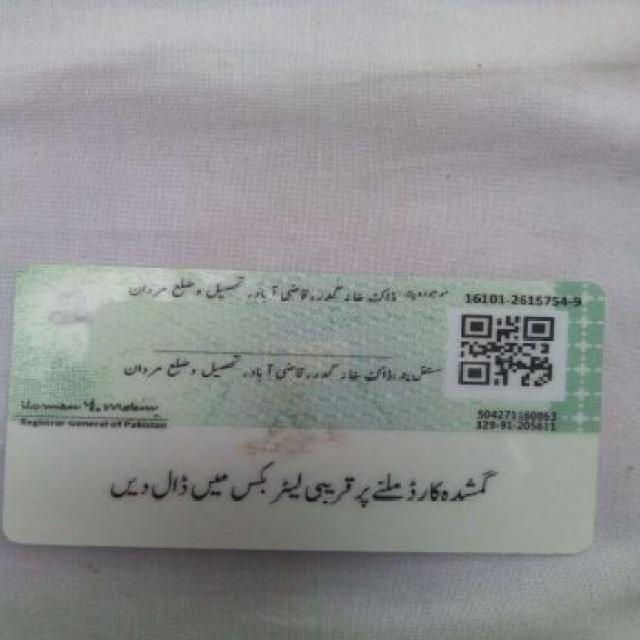Back: (8, 258, 609, 560)
